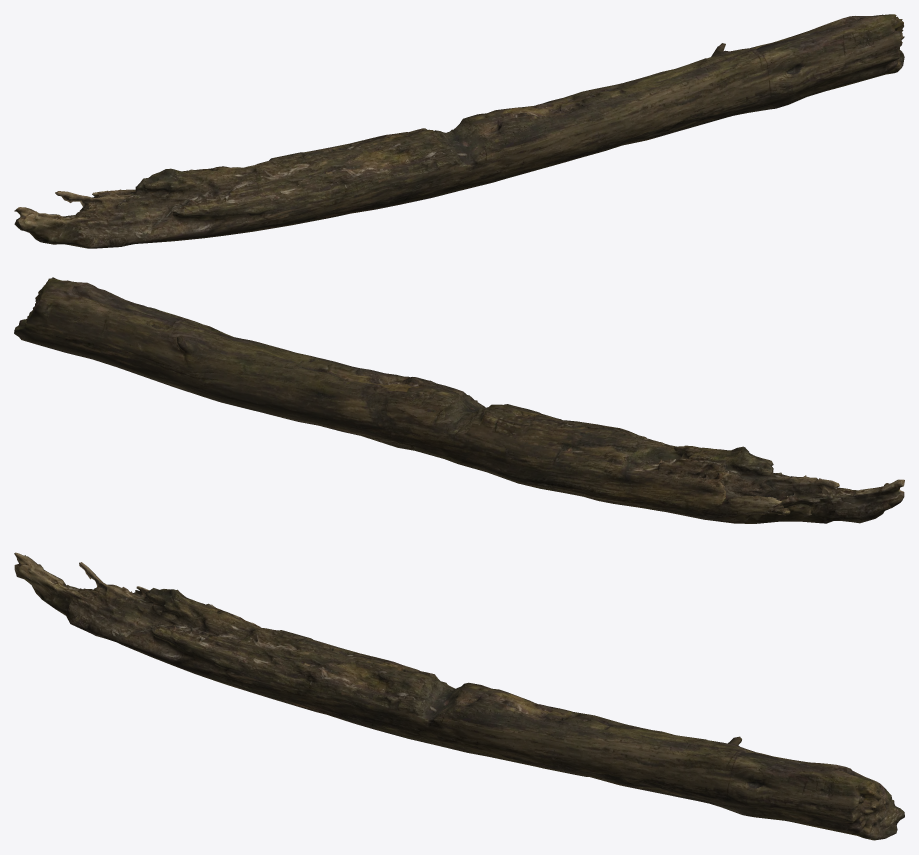
File: dead_tree_trunk.glb
3 renders of one model, top to bottom at view 1: azimuth 30°, elevation 25°; view 2: azimuth 150°, elevation 25°; view 3: azimuth 330°, elevation 25°, orthographic.
Visible parts, largest first — view 1: dead_tree_trunk; view 2: dead_tree_trunk; view 3: dead_tree_trunk.
Boxes of the visible parts, x1,y1,x2,y2 form: dead_tree_trunk: (14, 14, 904, 248); dead_tree_trunk: (14, 277, 904, 523); dead_tree_trunk: (14, 552, 904, 840).
Size of the model in its own units: 3.05 by 0.2898 by 0.2767.
Materials: 1 (1 with a texture image).
